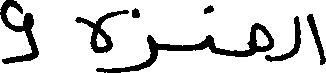X: (77, 5, 126, 72), (0, 0, 38, 68), (128, 3, 156, 72), (249, 18, 272, 66), (307, 9, 325, 69), (203, 0, 214, 57), (292, 11, 299, 61)
